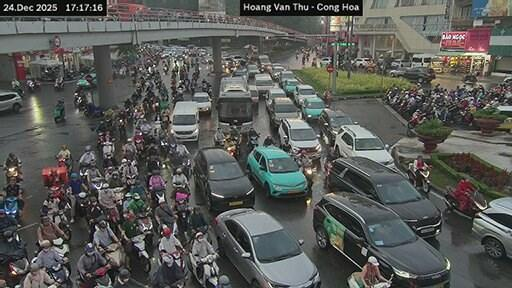motorbike: (0, 228, 28, 286), (444, 185, 486, 216), (188, 252, 218, 286), (0, 253, 28, 286), (76, 265, 111, 287), (131, 234, 150, 271), (406, 162, 429, 192), (137, 208, 153, 247), (47, 262, 70, 287), (51, 208, 70, 238), (99, 243, 121, 268), (176, 192, 188, 229), (74, 192, 89, 216), (3, 197, 18, 220), (300, 158, 316, 179), (51, 238, 69, 256), (89, 176, 105, 196), (102, 142, 114, 166), (371, 274, 393, 287), (406, 112, 425, 127), (224, 138, 239, 157), (83, 103, 103, 116), (54, 156, 71, 171), (172, 183, 188, 197), (6, 166, 22, 180), (246, 134, 258, 152), (346, 271, 359, 287), (134, 136, 144, 156), (124, 174, 137, 189), (79, 165, 89, 184), (54, 104, 64, 121), (74, 93, 86, 107), (463, 73, 476, 84), (118, 117, 124, 139), (12, 86, 24, 97), (160, 136, 166, 157), (54, 76, 63, 90), (323, 161, 332, 170), (214, 138, 223, 147), (28, 79, 35, 90), (163, 66, 166, 73), (323, 172, 328, 176), (149, 251, 150, 252)
